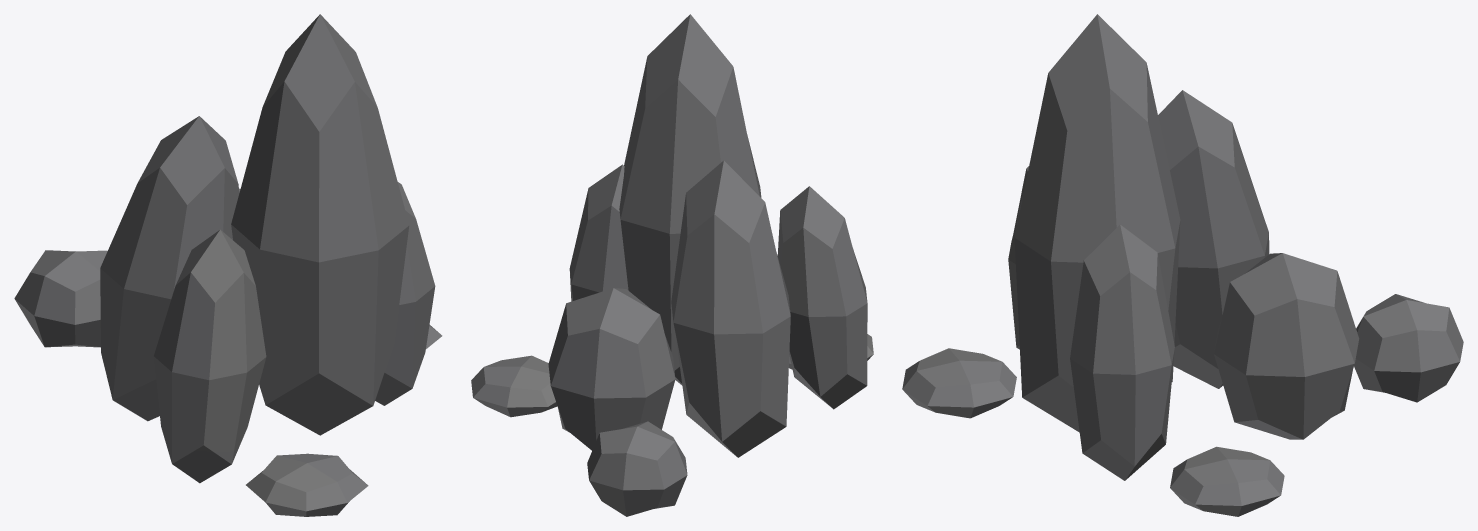
The model's file is rocks.gltf.
3 views of the same model, side by side, from view 1: azimuth 30°, elevation 25°; view 2: azimuth 150°, elevation 25°; view 3: azimuth 270°, elevation 25° (orthographic). The views are drawn at different scales.
Parts seen in each view (by area): view 1: rocks; view 2: rocks; view 3: rocks.
Part boxes in pixels (box(x1,y1,x2,y2)): rocks: box(14, 14, 442, 516); rocks: box(471, 14, 873, 516); rocks: box(902, 14, 1463, 516).
Bounding box in the file's own units: 0.0402 × 0.0471 × 0.0555.
1 material, 1 textured.
